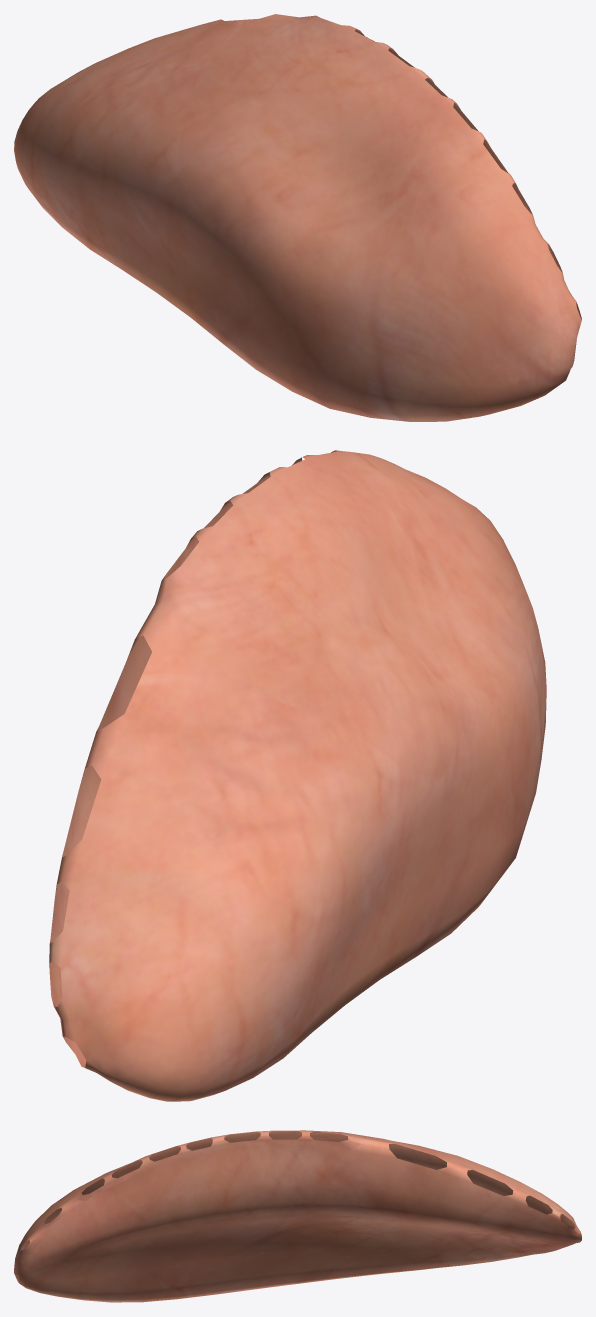
Rendered from putamen01.fbx.
3 views of the same model, one above another, from view 1: azimuth 30°, elevation 25°; view 2: azimuth 150°, elevation 25°; view 3: azimuth 270°, elevation 25° (orthographic). The views are drawn at different scales.
Visible parts, largest first — view 1: R_Putamen; view 2: R_Putamen; view 3: R_Putamen.
Part boxes in pixels (box(x1,y1,x2,y2)): R_Putamen: box(14, 14, 581, 421); R_Putamen: box(49, 450, 546, 1101); R_Putamen: box(14, 1130, 581, 1302).
Bounding box in the file's own units: 1.62 × 2.11 × 5.32.
Materials: 1 (1 with a texture image).
